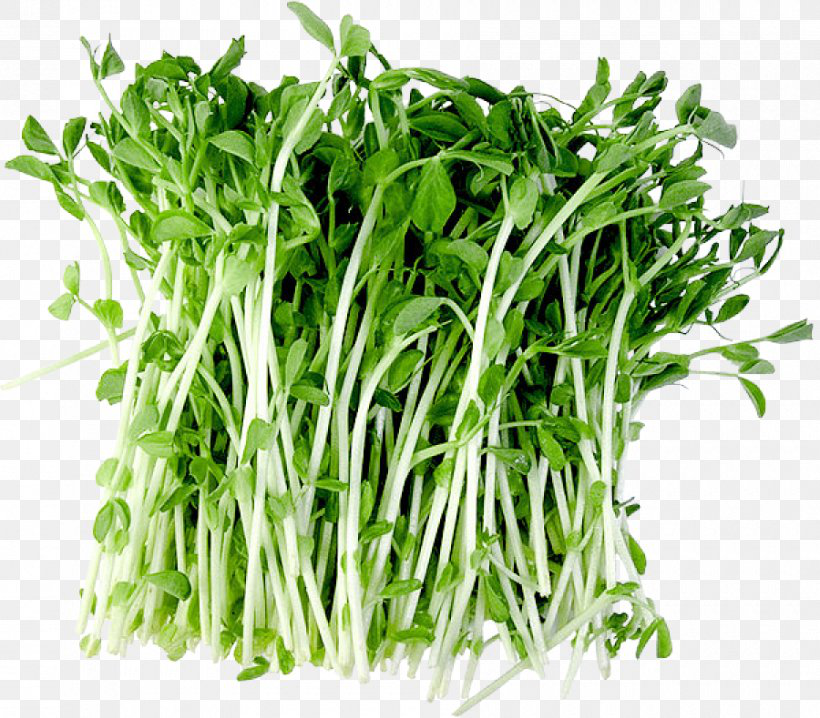Kangkung: (39, 16, 802, 700)
